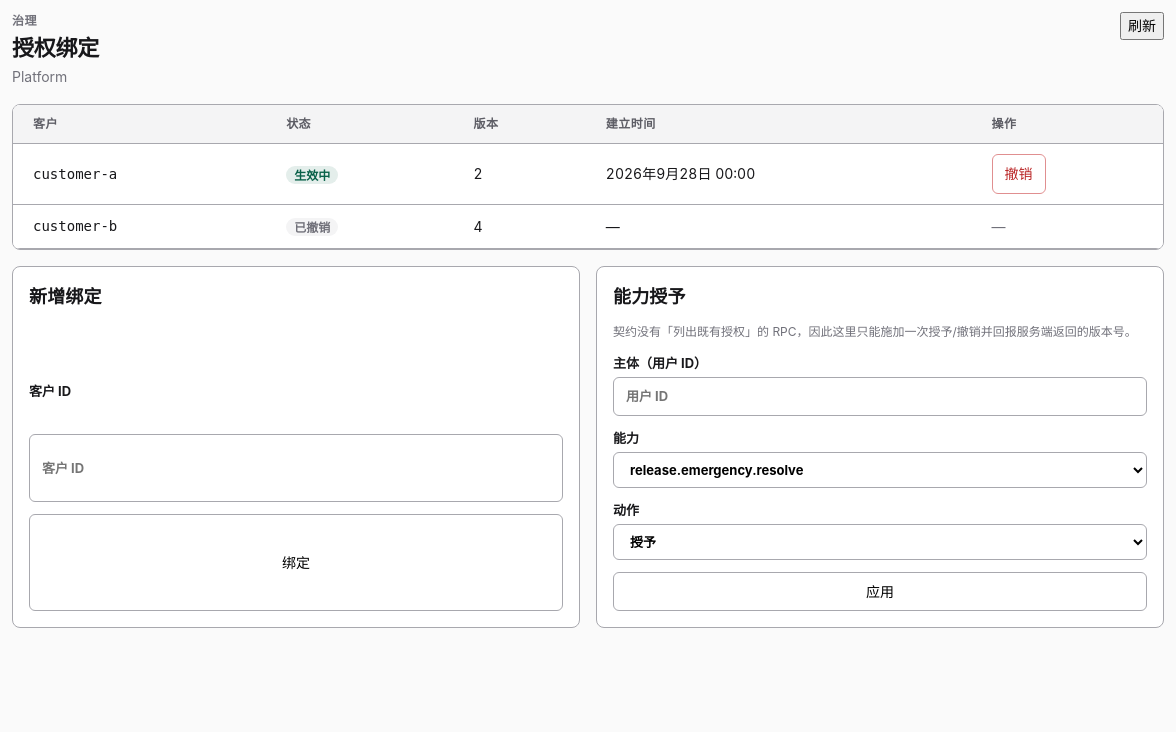
BindingsPage › refuses an already active customer locally
Type "customer-a" into the field named "customerId" at (296, 468), box [29, 434, 563, 502]
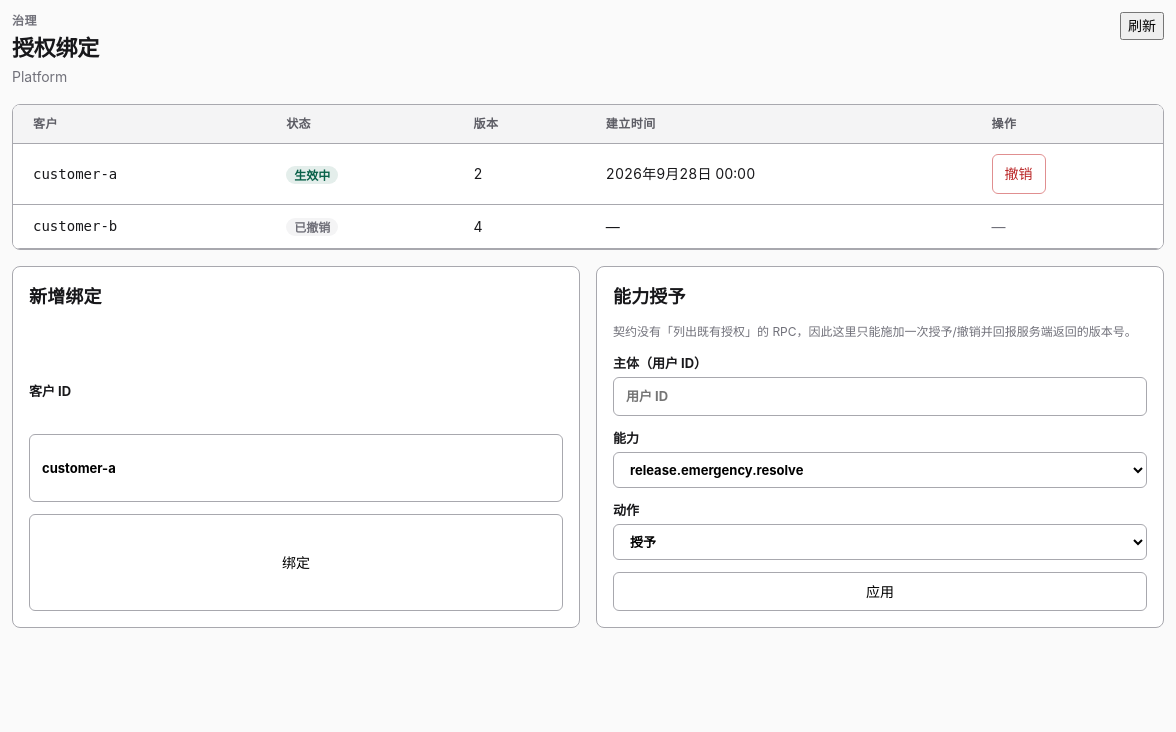
Submit the form "新增绑定 客户 ID 绑定", box [12, 266, 580, 628]
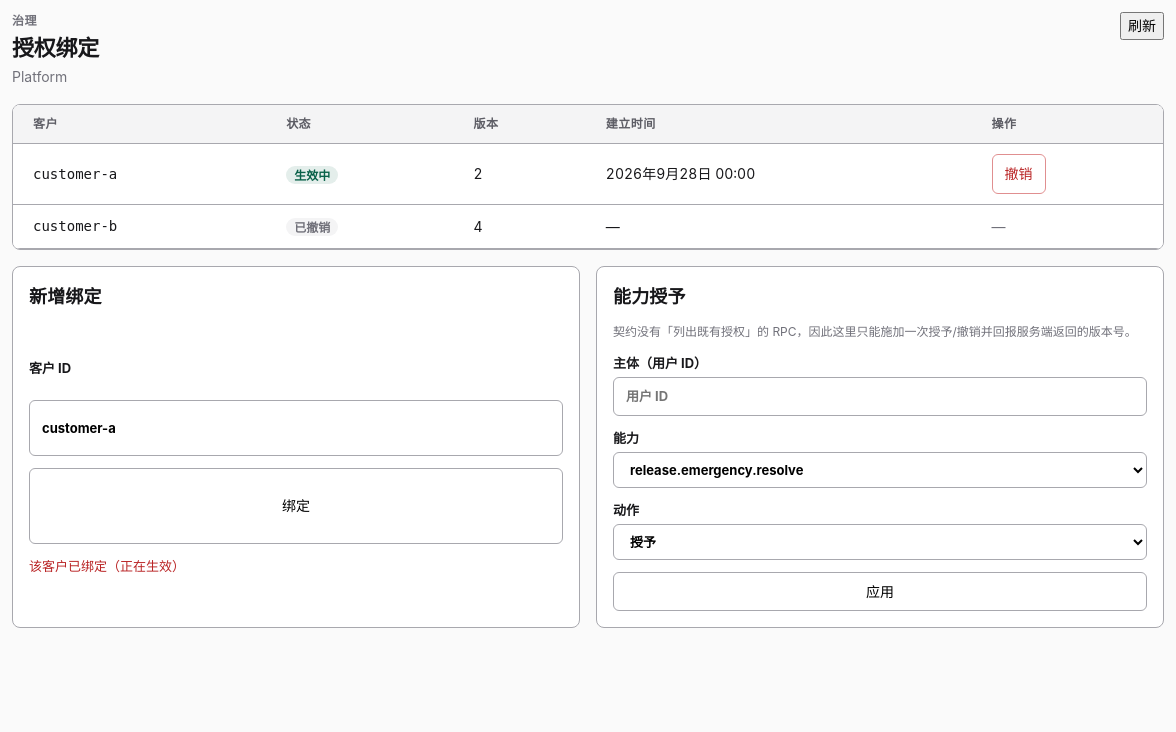
Now the message with test id "binding-create-error" shows "已绑定", box [29, 558, 185, 574]
